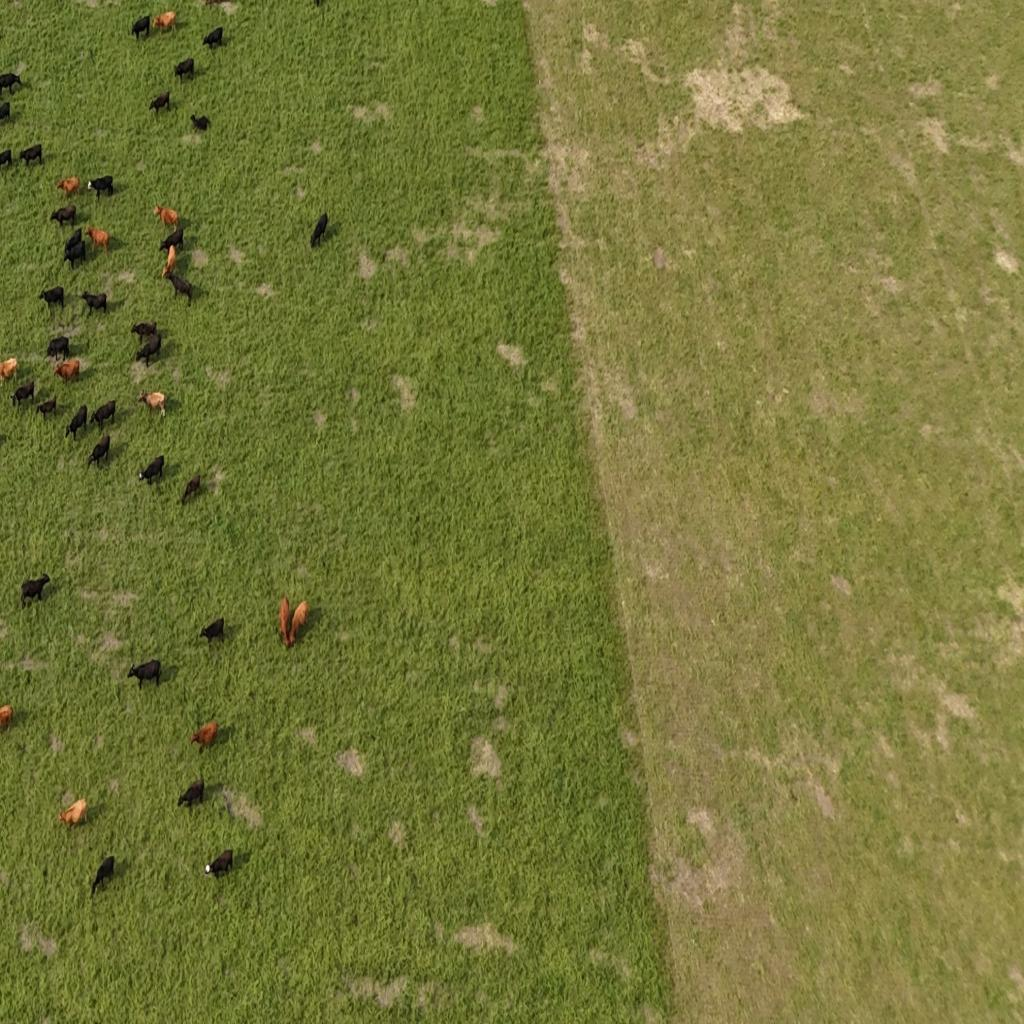cow: (90, 855, 115, 898), (20, 574, 51, 608), (128, 658, 161, 689), (288, 600, 308, 649), (134, 333, 161, 368), (58, 798, 88, 829), (177, 776, 204, 810), (136, 390, 166, 420), (86, 434, 110, 471), (166, 272, 192, 306), (90, 400, 117, 432), (205, 848, 233, 878), (138, 455, 164, 486), (65, 405, 88, 440), (62, 236, 86, 268), (191, 722, 218, 750), (38, 286, 65, 314), (83, 226, 109, 254), (159, 226, 183, 256), (50, 204, 77, 230), (53, 359, 80, 385), (199, 617, 224, 645), (153, 203, 179, 229), (279, 596, 292, 648), (181, 474, 202, 506), (12, 380, 35, 409), (82, 290, 108, 314), (46, 336, 70, 362), (88, 175, 114, 199), (310, 212, 327, 248), (151, 10, 176, 34), (0, 72, 23, 98), (19, 144, 43, 167), (148, 90, 170, 115), (130, 321, 158, 340), (131, 14, 150, 42), (35, 396, 57, 420), (55, 177, 80, 198), (202, 27, 223, 51), (162, 244, 176, 280), (174, 58, 194, 83), (0, 357, 18, 384), (64, 226, 84, 247), (190, 114, 210, 132), (0, 148, 12, 170), (0, 101, 11, 124)
